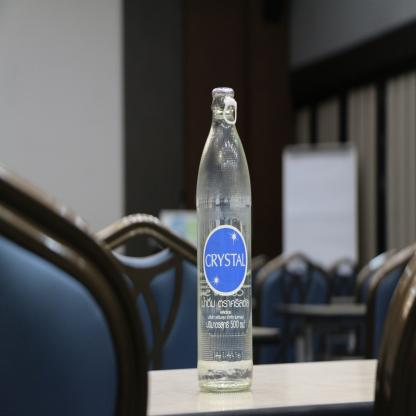Can: (196, 85, 254, 395)
